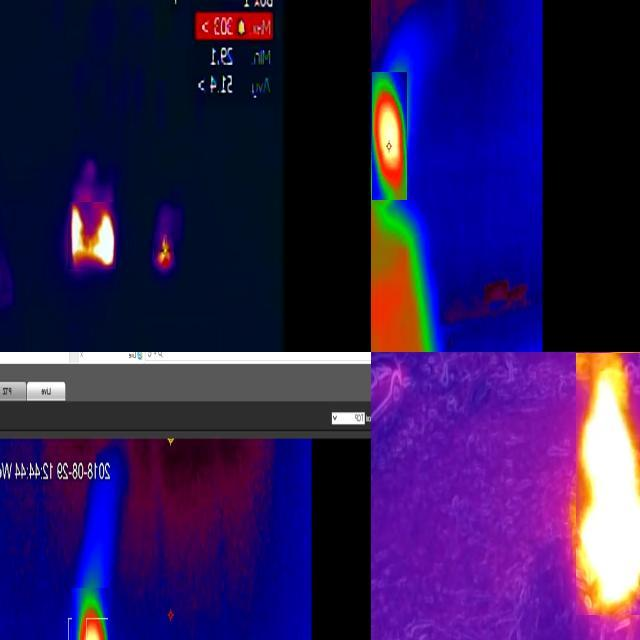fire: (576, 353, 640, 615), (372, 72, 407, 200), (68, 202, 116, 269), (71, 588, 107, 640), (154, 232, 174, 269)
